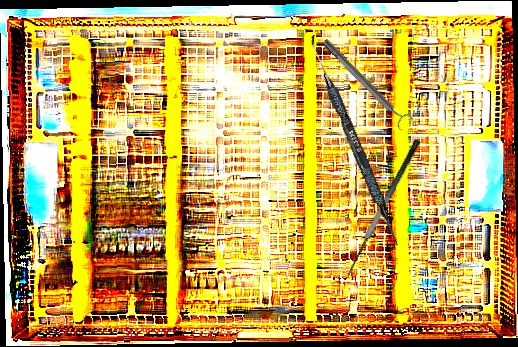Fixation Ring: (317, 33, 415, 133)
Spatula Surgical: (301, 34, 407, 248), (340, 138, 433, 281)
